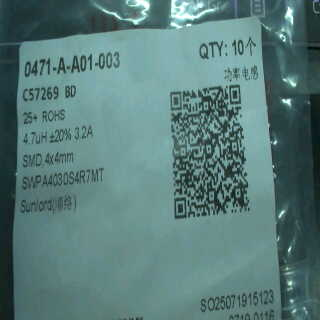4.7uH: (18, 127, 48, 151)
